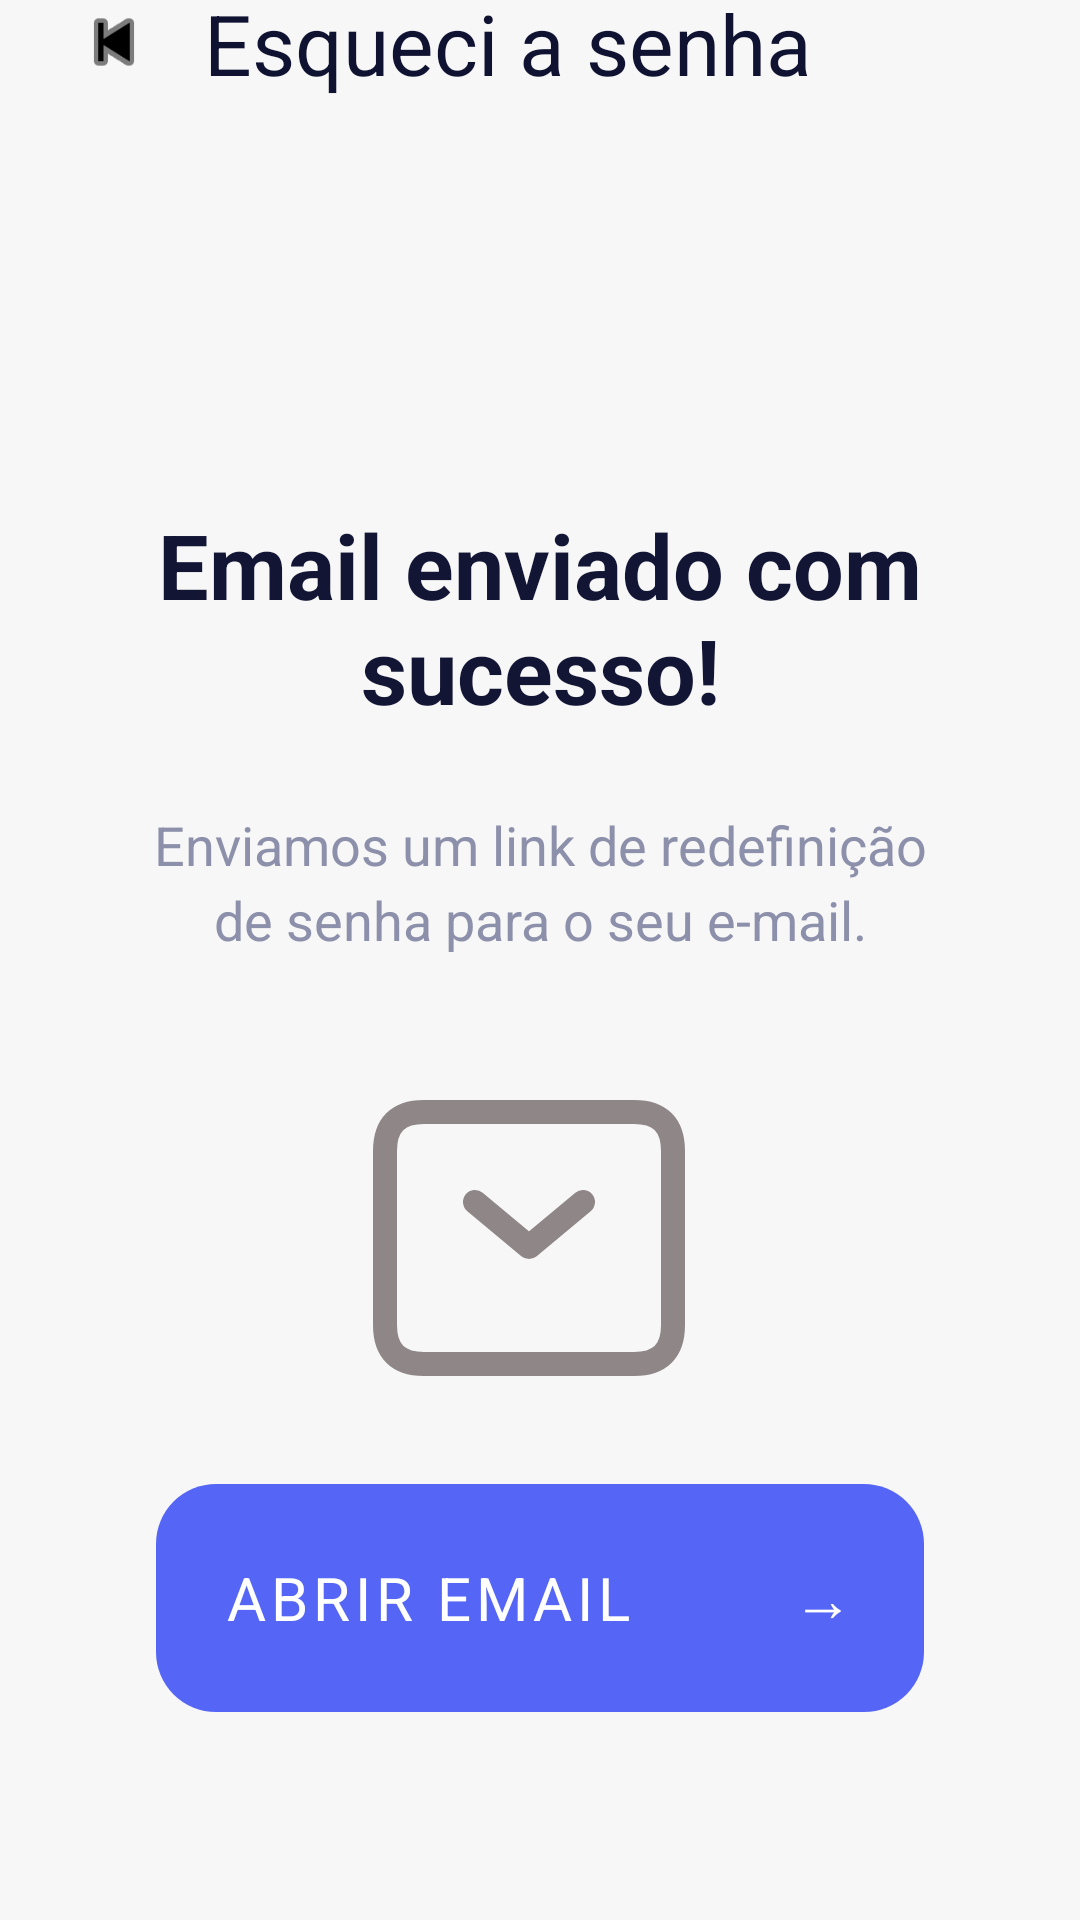

Locate icon controls on the screen. Image size 1080px x 1920px, boxes as [x1,y1,x2,y2].
Voltar: [94,18,134,66]
Ícone de email: [373,1100,685,1376]
